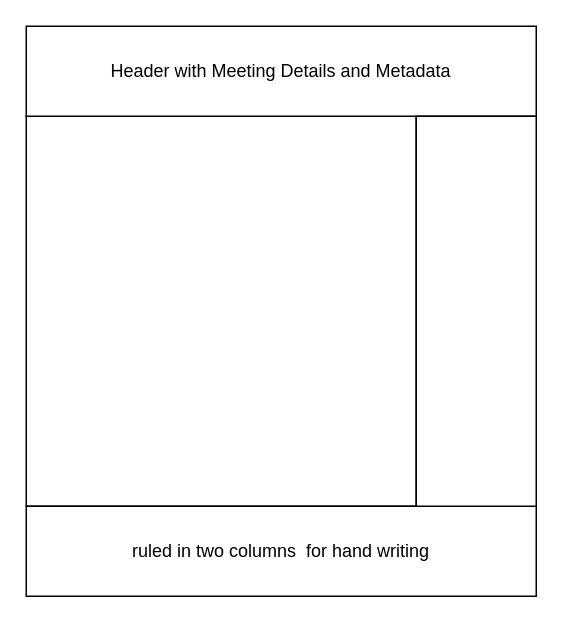
This 563x623 diagram has some shape labels left out. Each missing label, with the centre of its shape:
Main Panel for Notes: point 220,310
Ruled for hand writing: point 475,310
